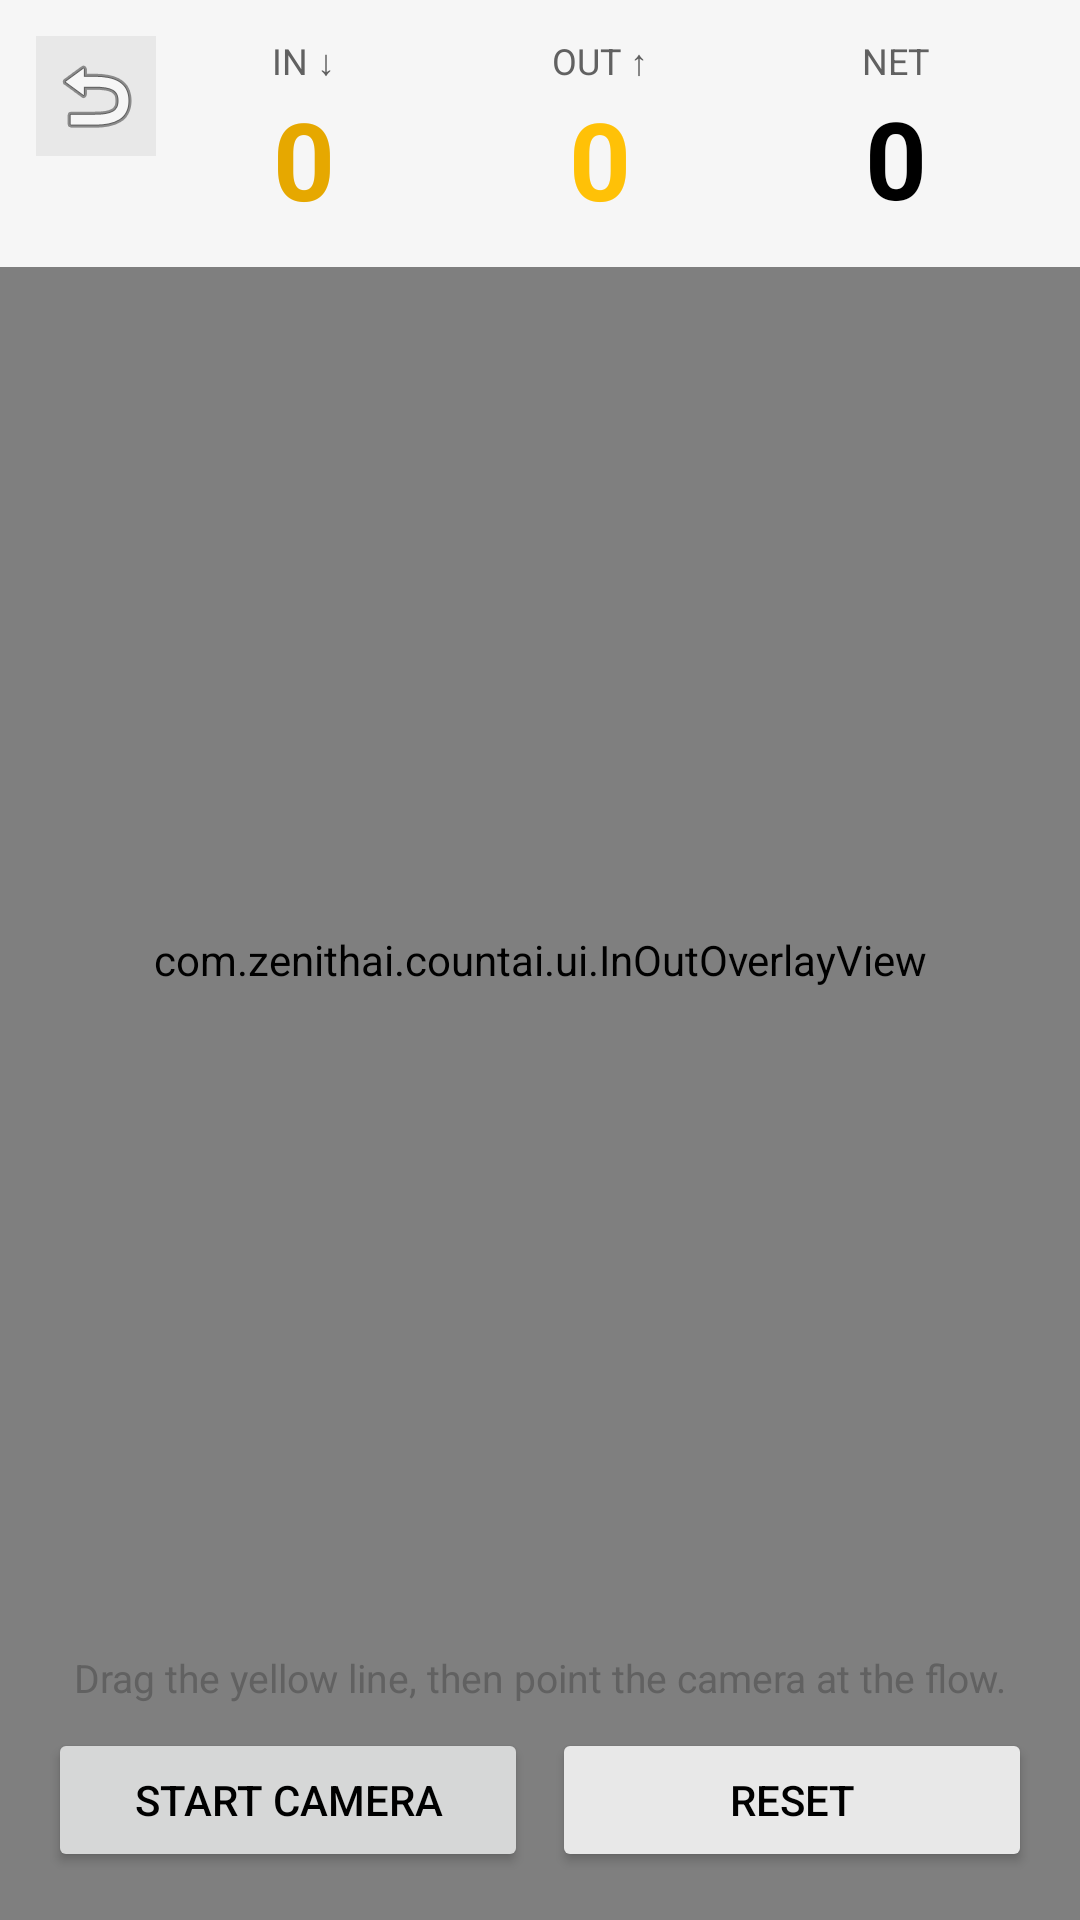

Where to tap for icons on this 1080px x 1920px app screen, as [x,y]:
Back: [96,96]
